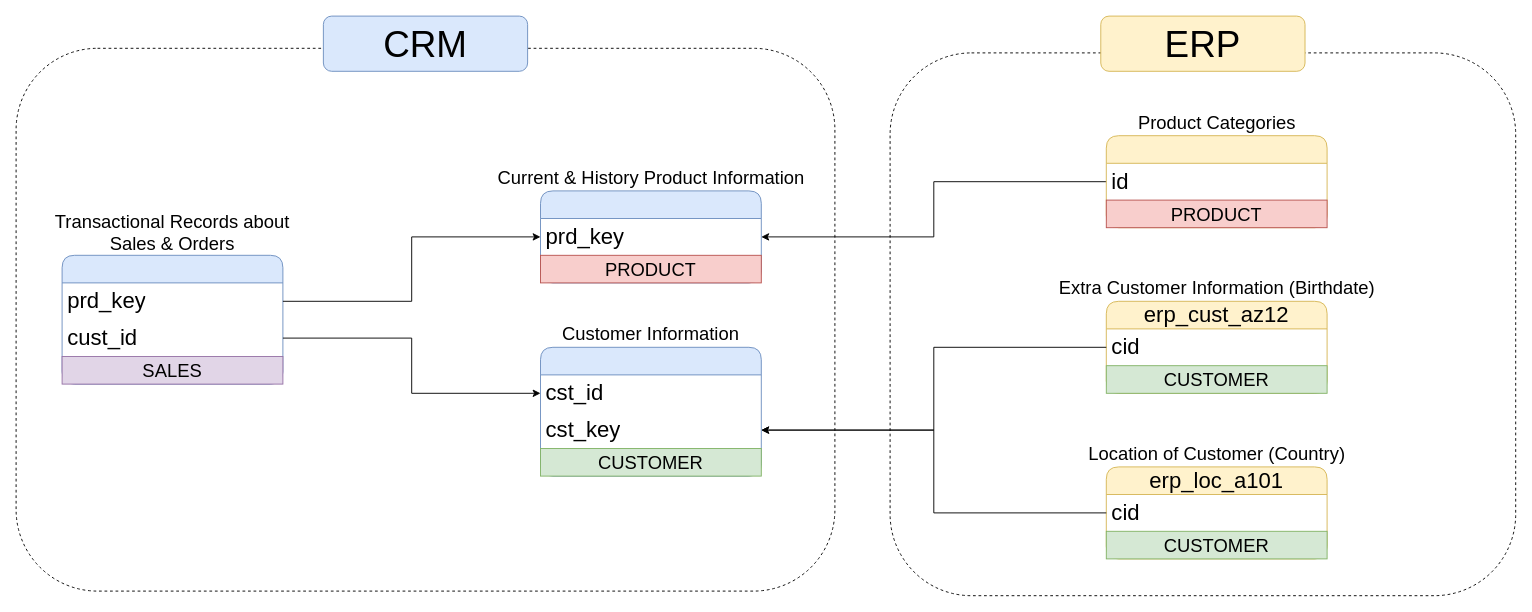
Some shapes in this 1532 by 612 pixel diagram are drawn without their labels. The box of each missing label's shape, as (x1, y1, x2, y2) in pixels:
crm_cust_info: (540, 346, 761, 476)
crm_prd_info: (540, 190, 761, 283)
crm_sales_details: (61, 254, 283, 384)
erp_px_cat_g1v2: (1105, 135, 1327, 228)
